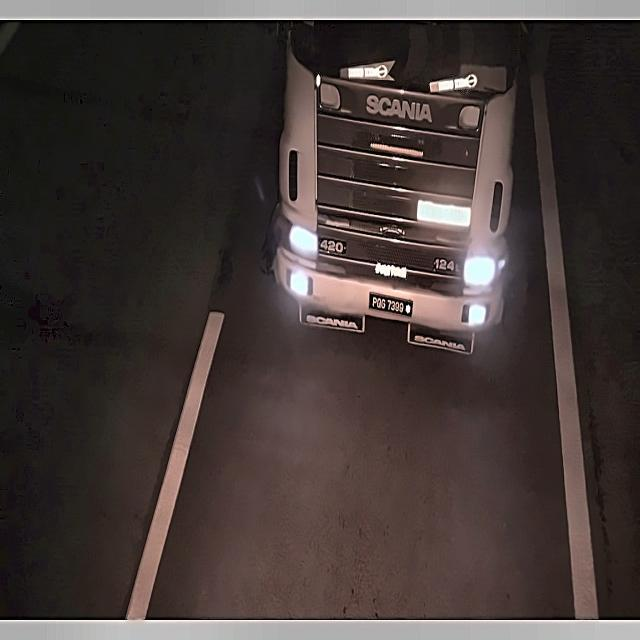car: (365, 288, 416, 326)
